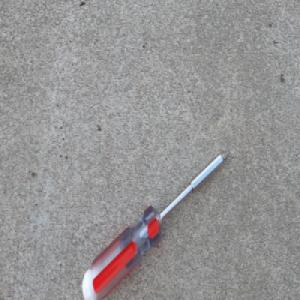Screwdriver: (80, 147, 231, 300)
